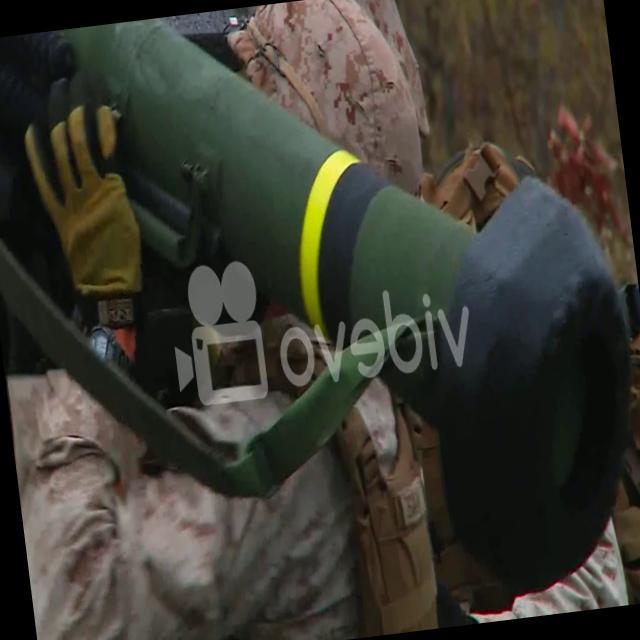rocket: (108, 0, 640, 630)
